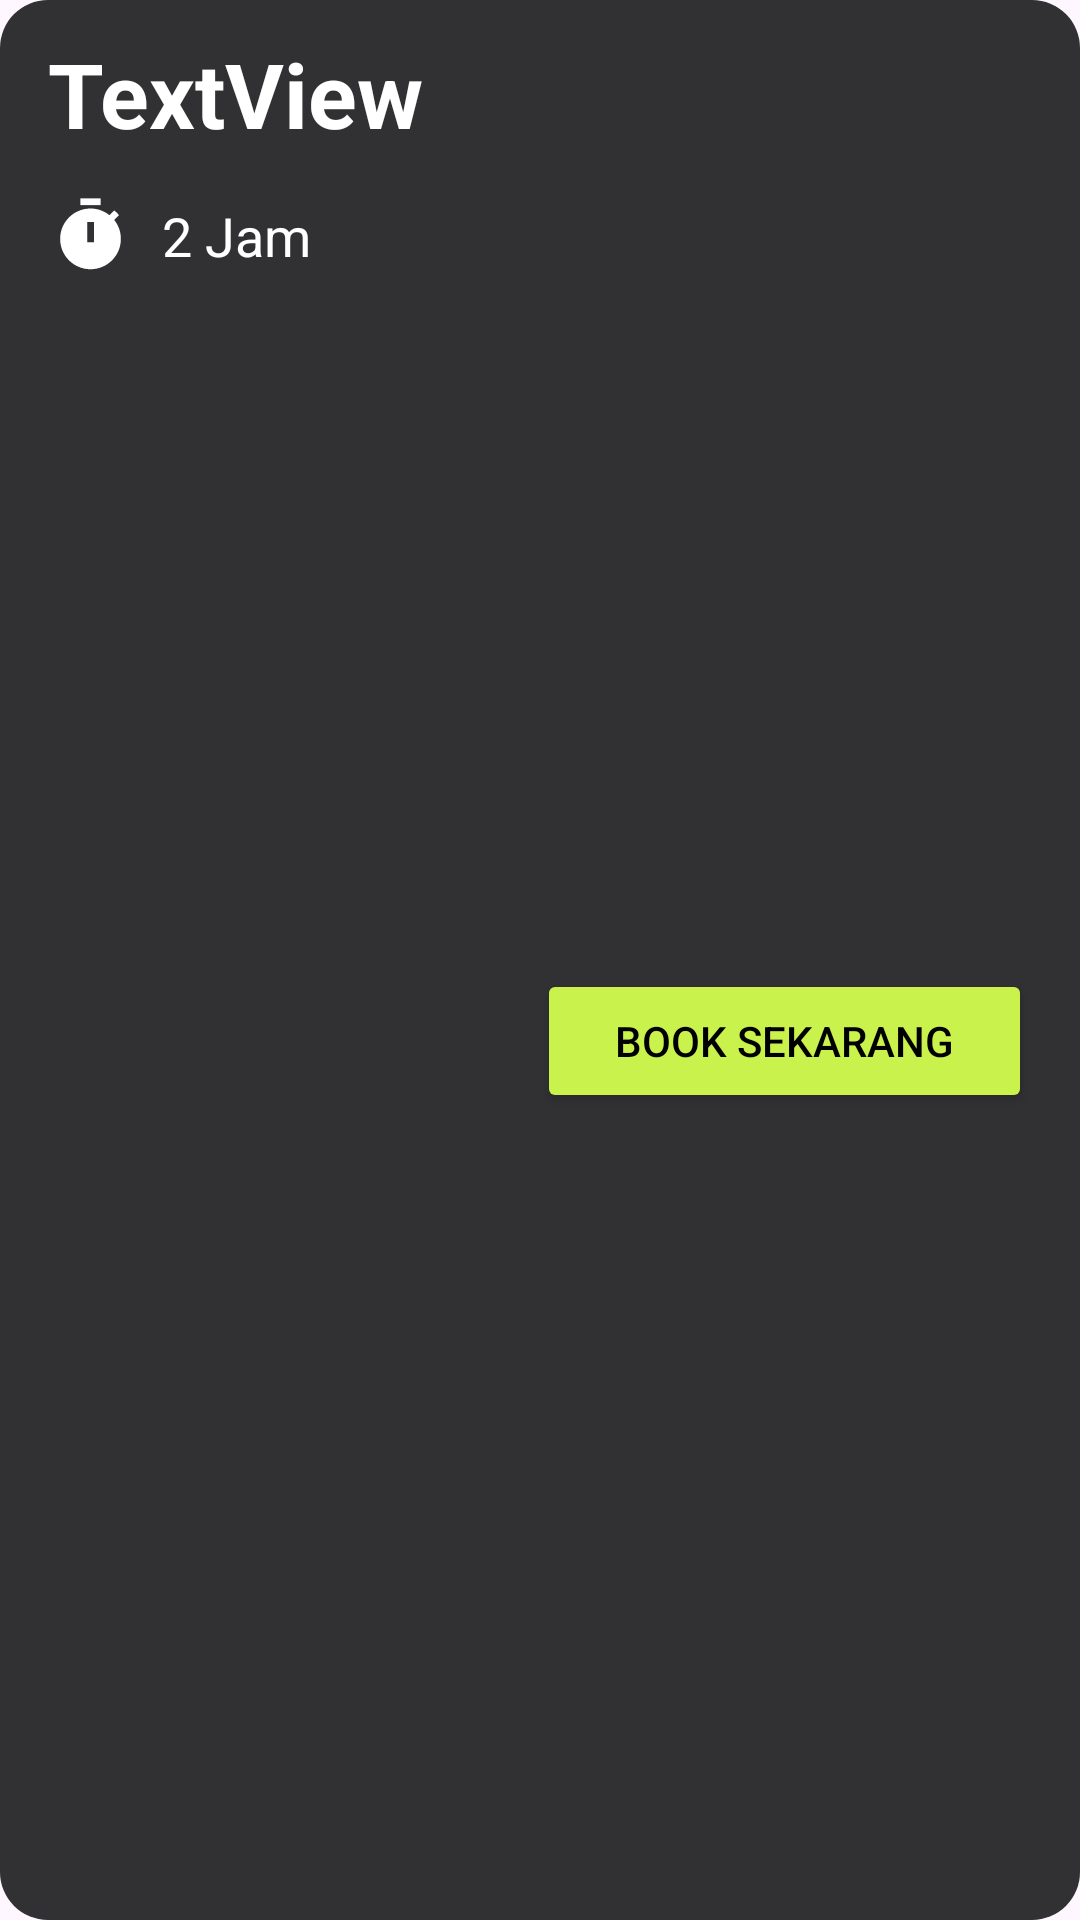

Icons on this 1080 × 1920 Android screen, each with the point to tap as (x=x, y=y):
duration: (x=90, y=234)
